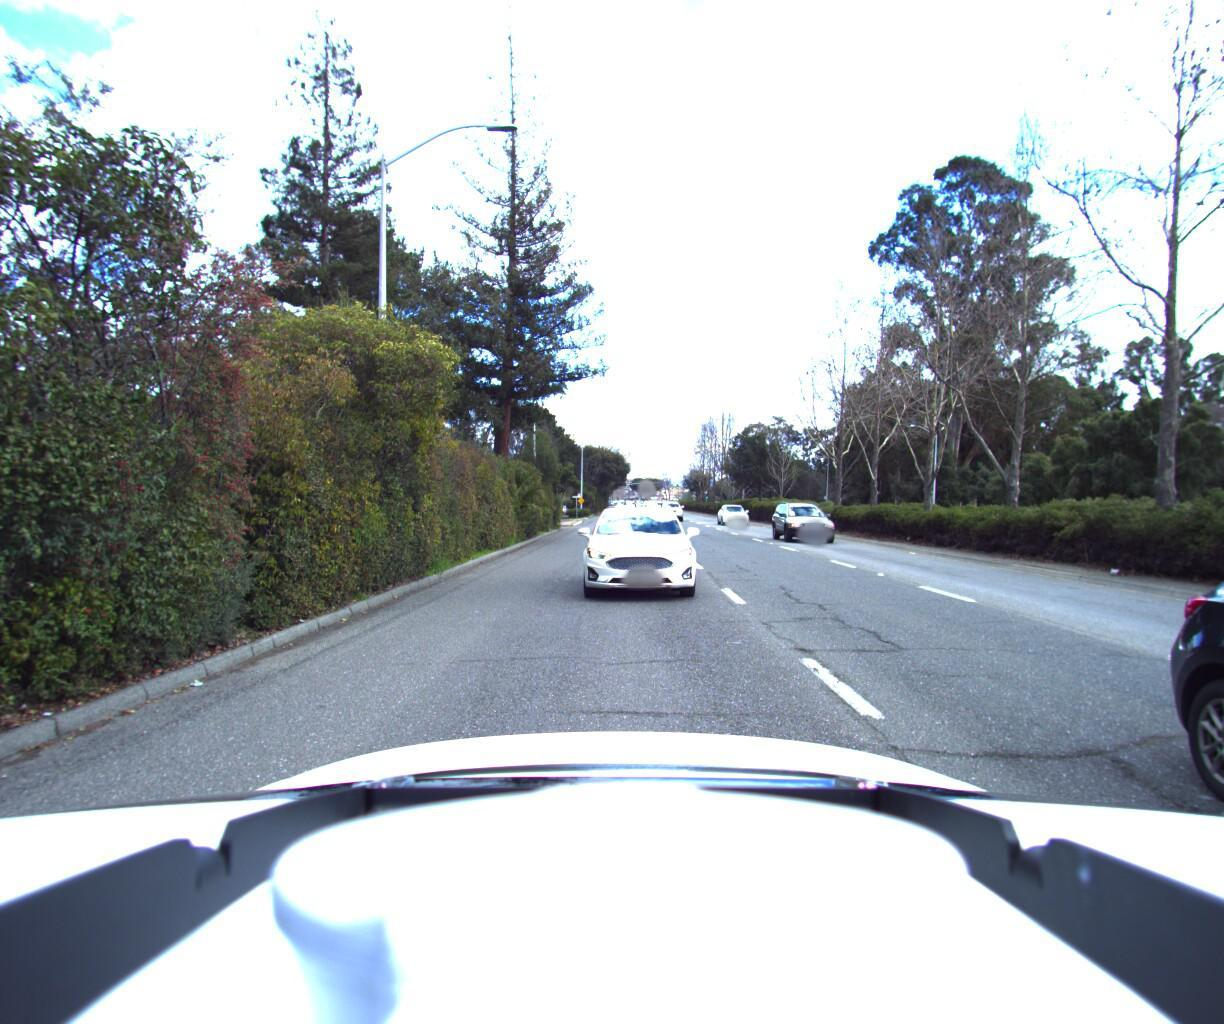car: (565, 500, 711, 618), (772, 502, 849, 548), (718, 499, 757, 527), (608, 500, 640, 527), (656, 500, 686, 524)
